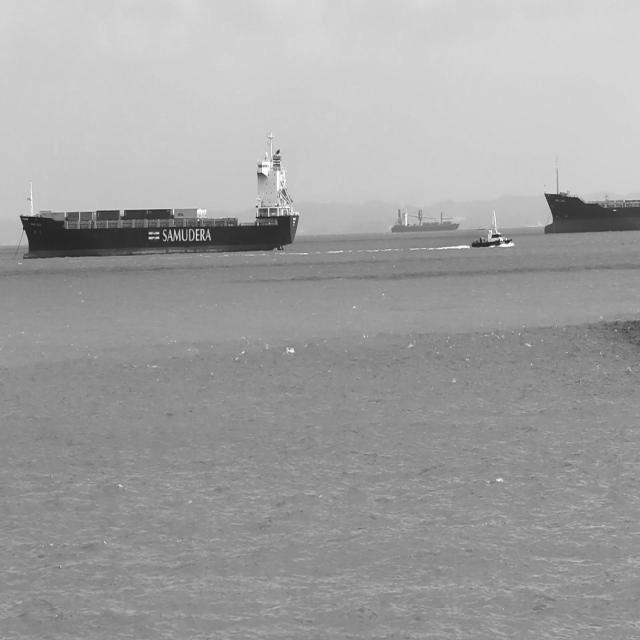ship: (18, 129, 300, 259), (544, 158, 640, 234), (390, 207, 460, 234), (471, 228, 514, 250), (490, 208, 498, 232), (476, 224, 486, 232)
